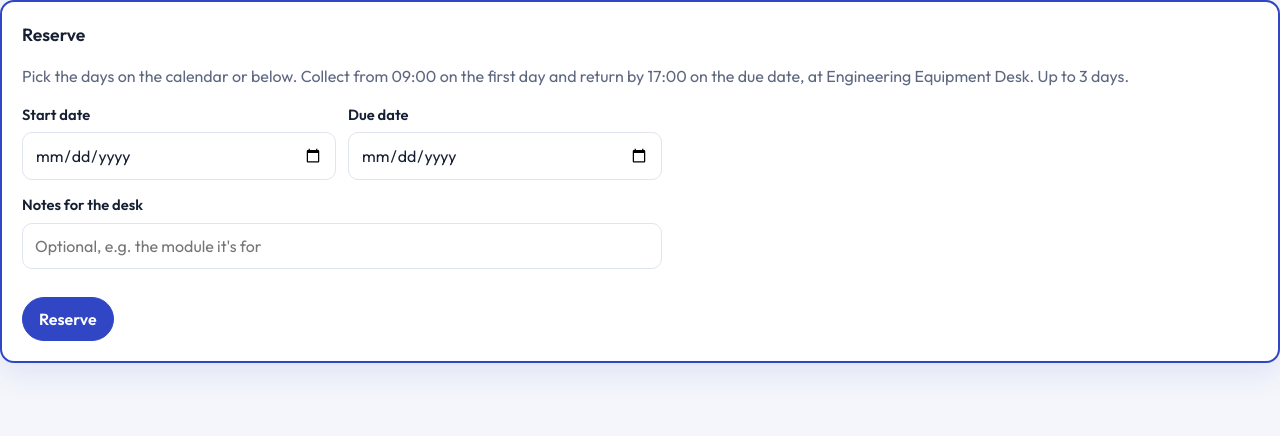
Test: asks for both dates
Click the button "Reserve" at [68, 318], box [22,296,114,340]
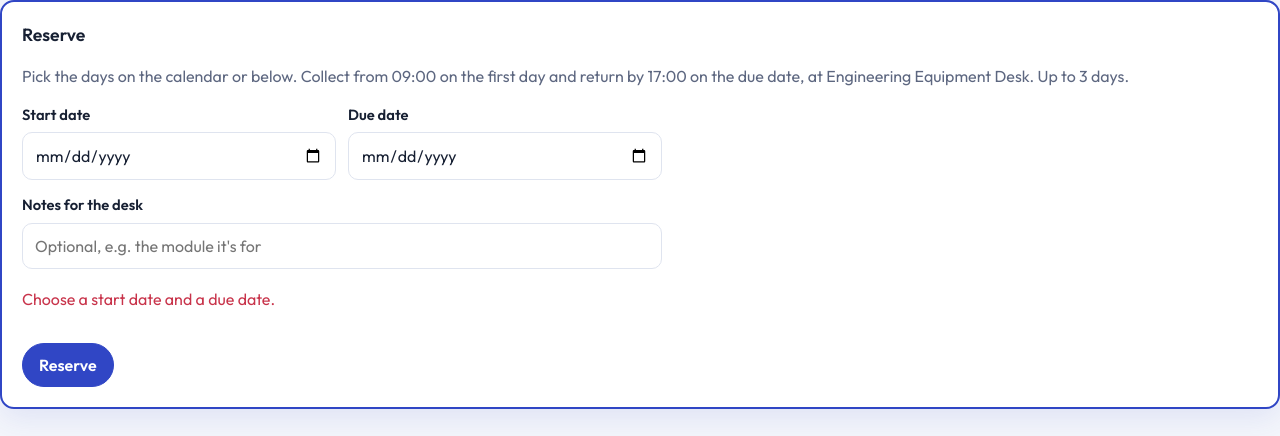
Check: the message reads "Choose a start date and a due date.", box [22,288,275,308]
